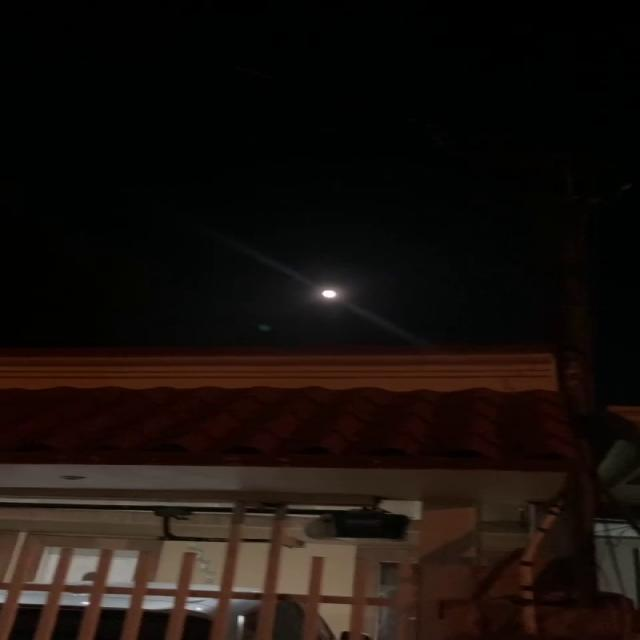moon: (316, 282, 355, 312)
